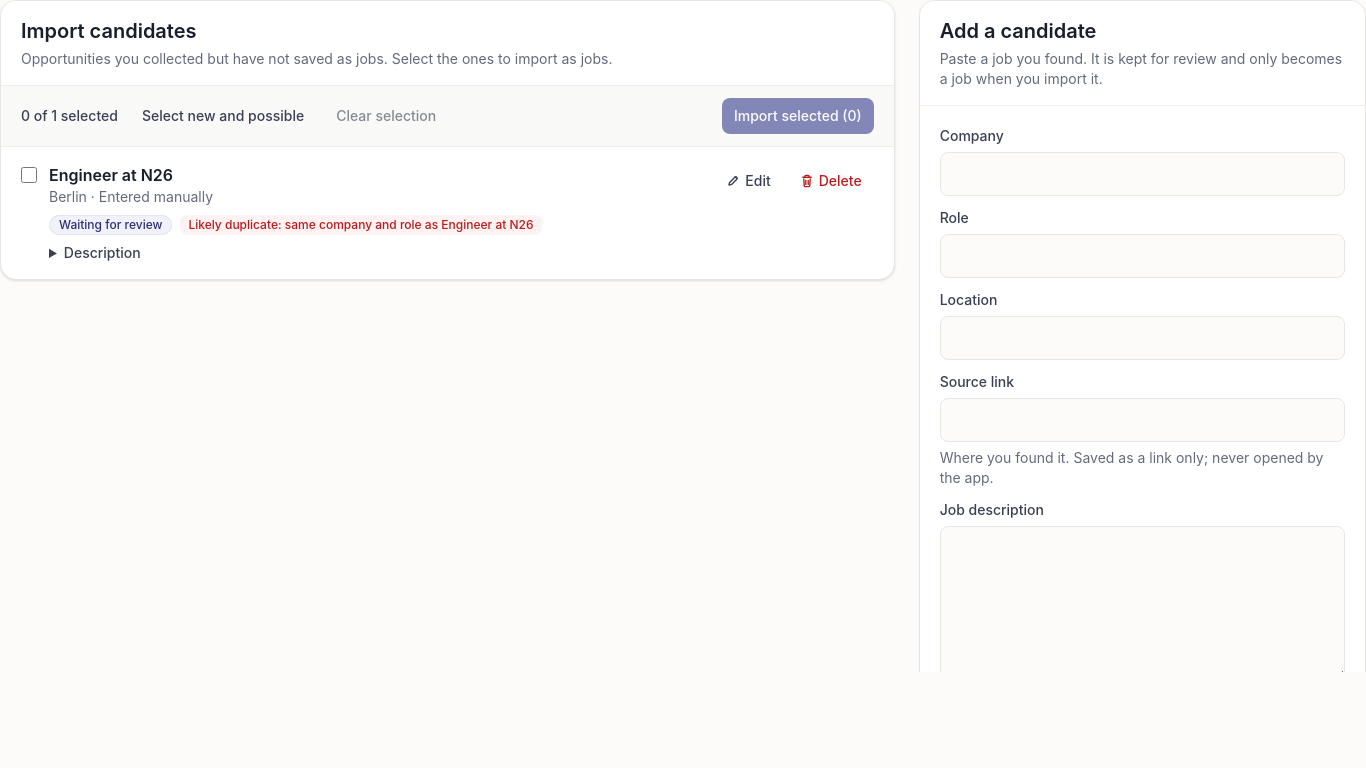
Test: ImportCandidatesSection import › warns in the confirmation when a likely duplicate is selected
Click the checkbox named "Select Engineer at N26": (29, 175) [21,167,37,183]
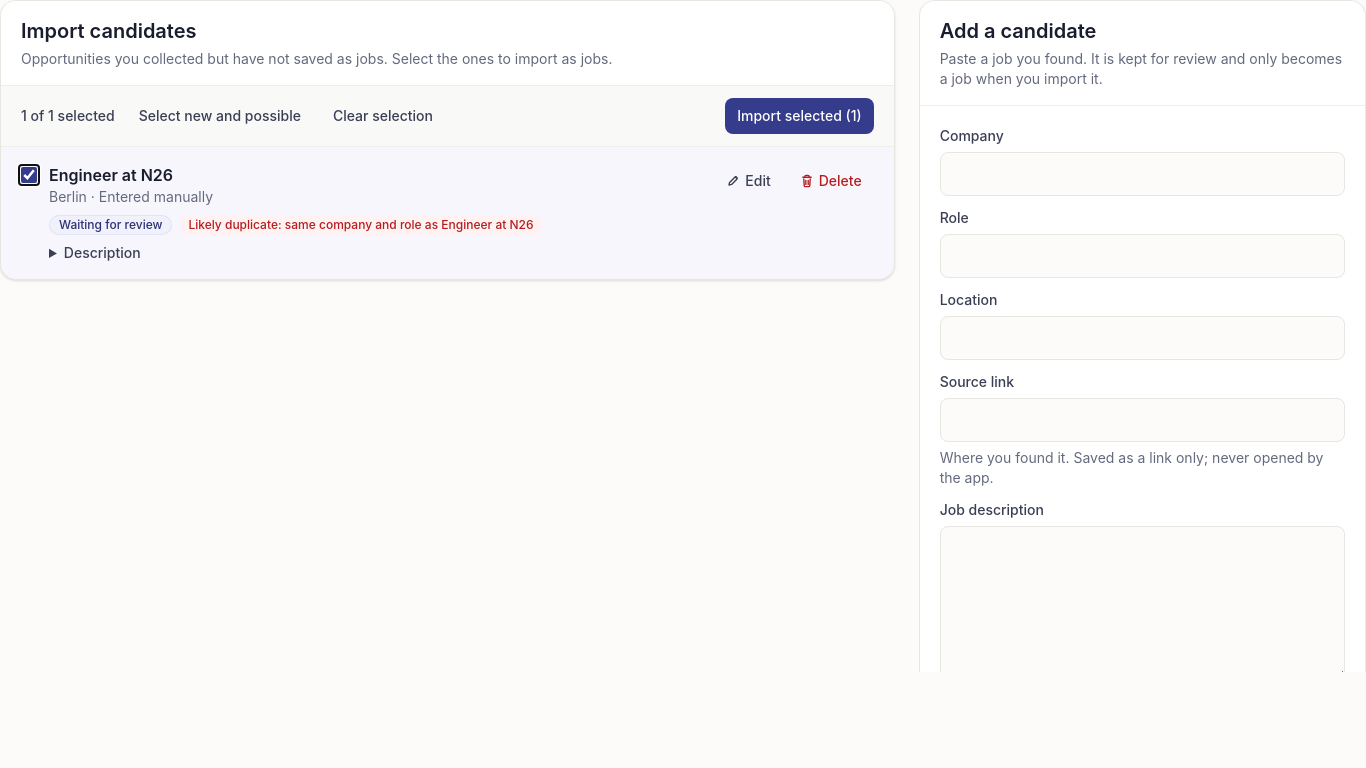
Click the button "Import selected (1)": (799, 116) [725,98,874,134]
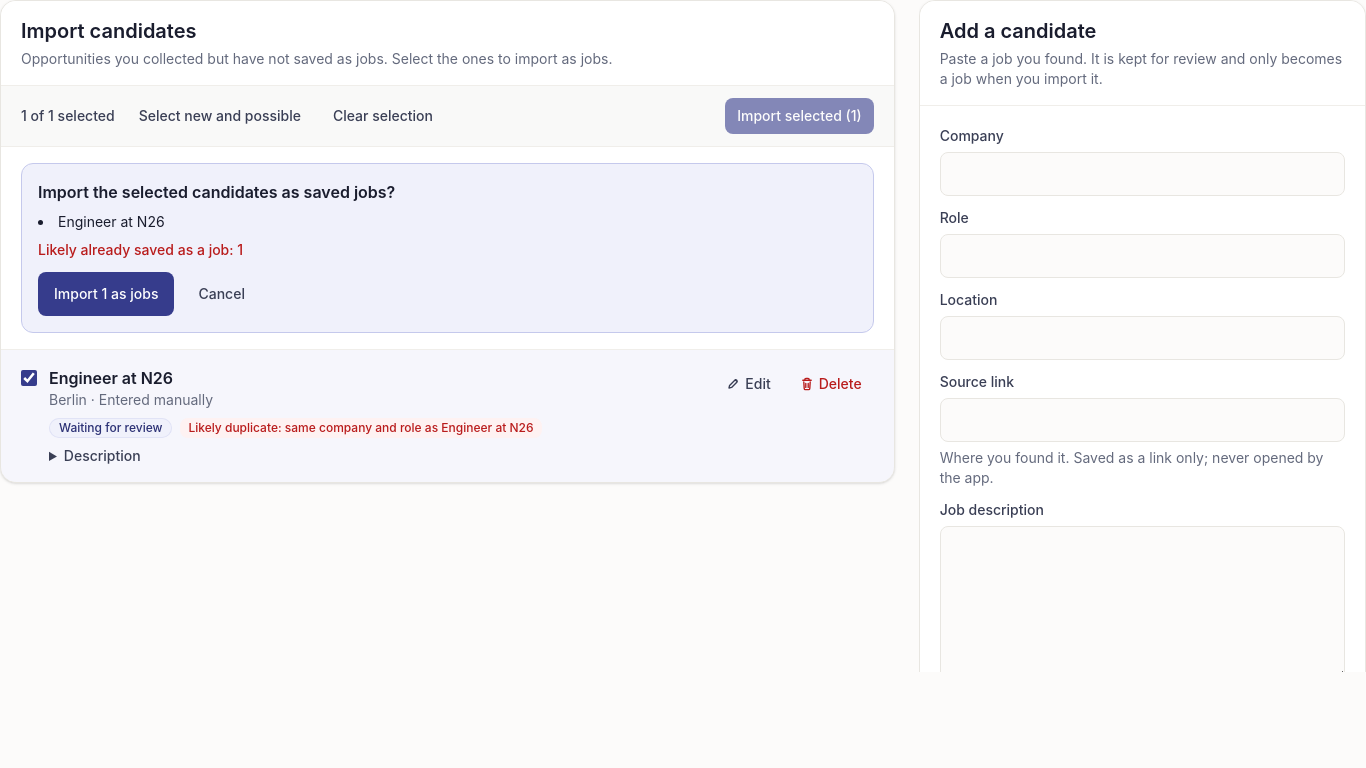
Expected: the text "Likely already saved as a job: 1" is shown, [38,241,243,258]
